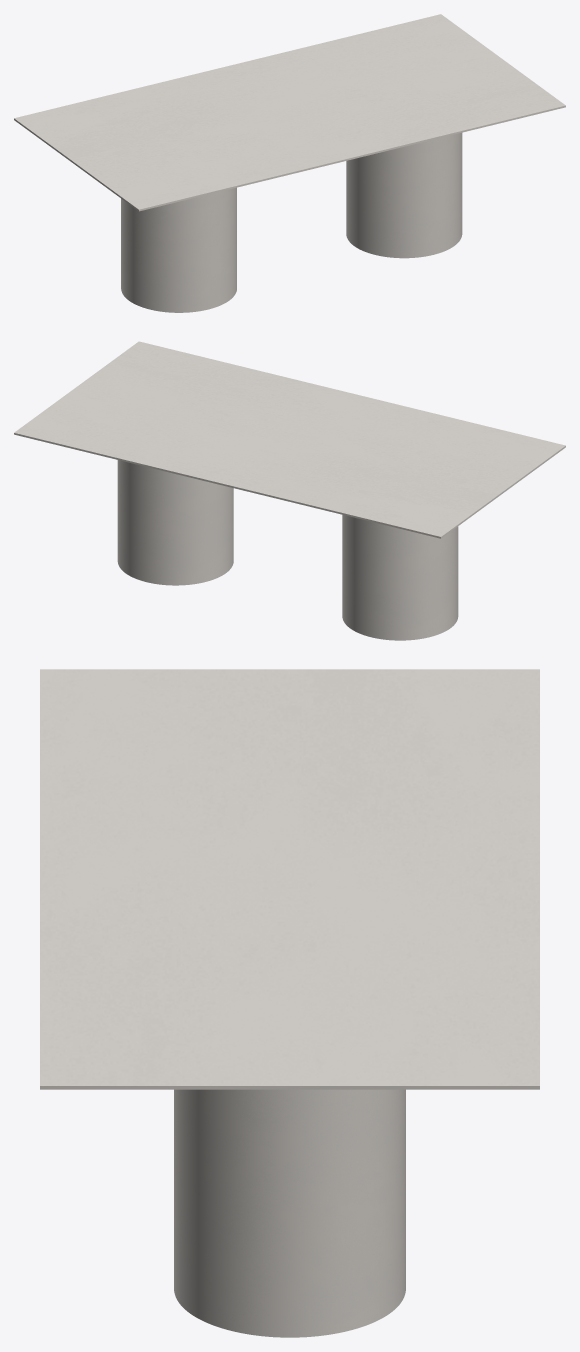
File: pearlwhite_recta_facet_stream.glb
The picture shows the model from 3 angles, top to bottom: view 1: azimuth 30°, elevation 25°; view 2: azimuth 150°, elevation 25°; view 3: azimuth 270°, elevation 25°; orthographic projection. The views are drawn at different scales.
Parts seen in each view (by area): view 1: facet_recta, stream; view 2: facet_recta, stream; view 3: facet_recta, stream.
Boxes of the visible parts, left/top/right/bottom form: facet_recta: left=14, top=14, right=565, bottom=211; stream: left=121, top=132, right=462, bottom=312; facet_recta: left=14, top=341, right=565, bottom=538; stream: left=117, top=460, right=458, bottom=640; facet_recta: left=40, top=669, right=539, bottom=1089; stream: left=174, top=1089, right=405, bottom=1337.
Bounding box in the file's own units: 7.5 × 2.51 × 3.8.
Materials: 1 (1 with a texture image).
